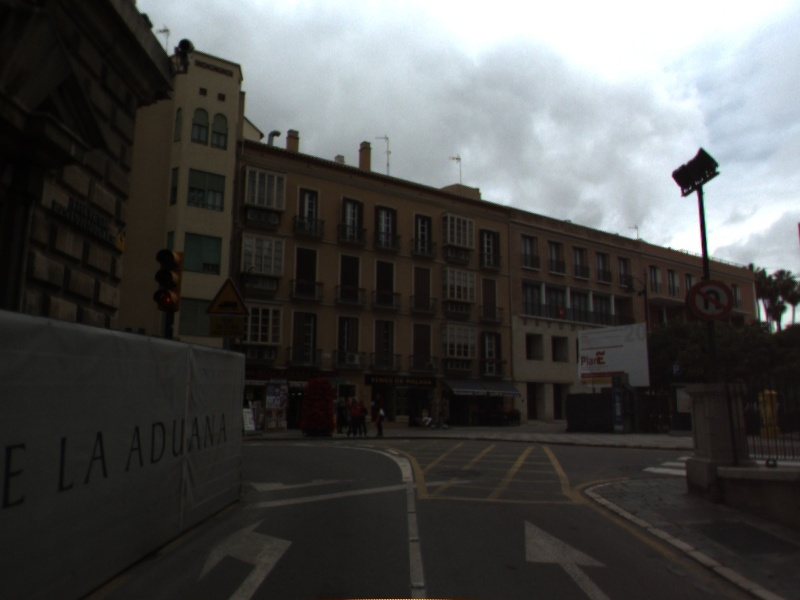LEFT: (196, 517, 295, 600)
STRAIGHT: (522, 514, 613, 600)
